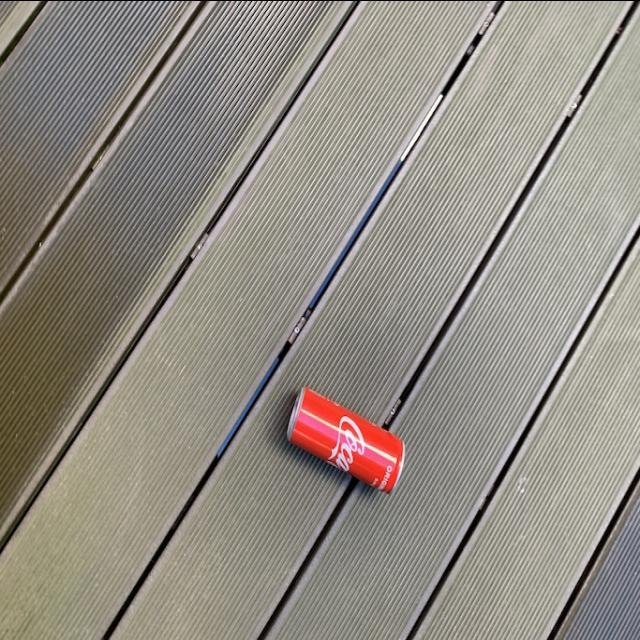Aluminum Can: (284, 379, 410, 495)
